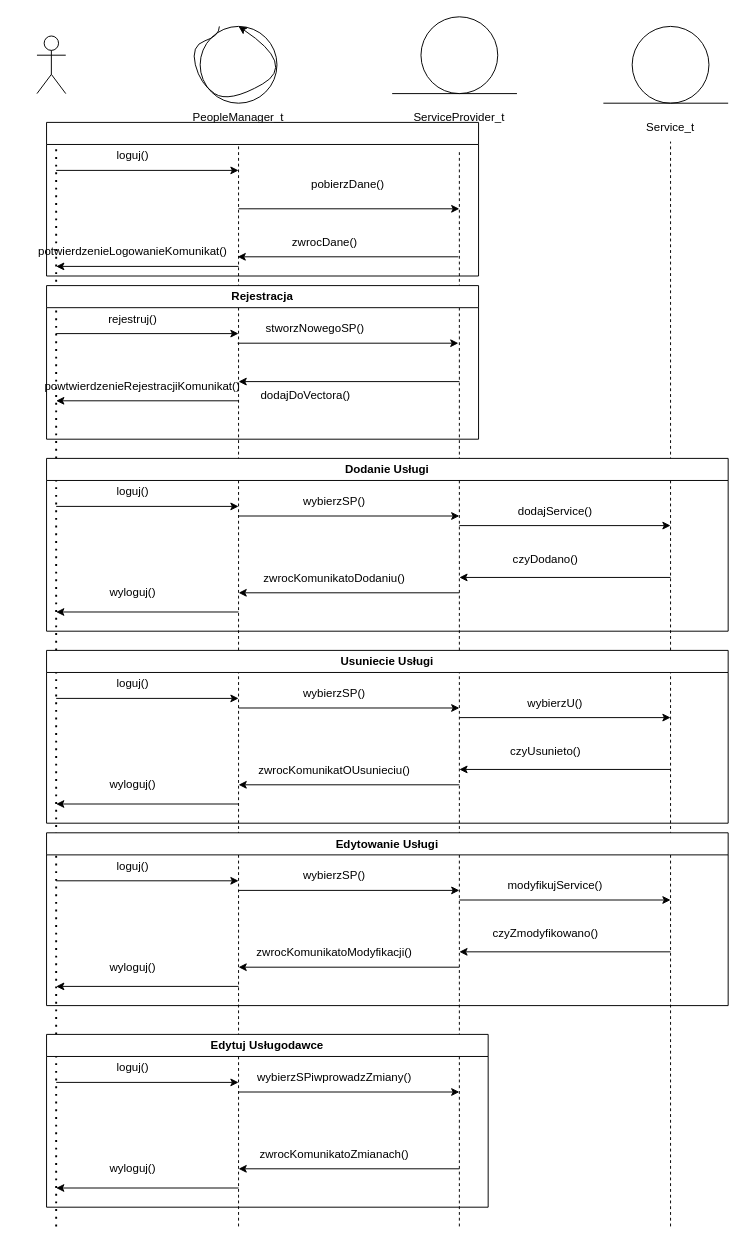
This 746x1245 diagram has some shape labels left out. Each missing label, with the centre of its shape:
"Logowanie" belongs at point (262, 198).
"Usługodawca" belongs at point (51, 64).
